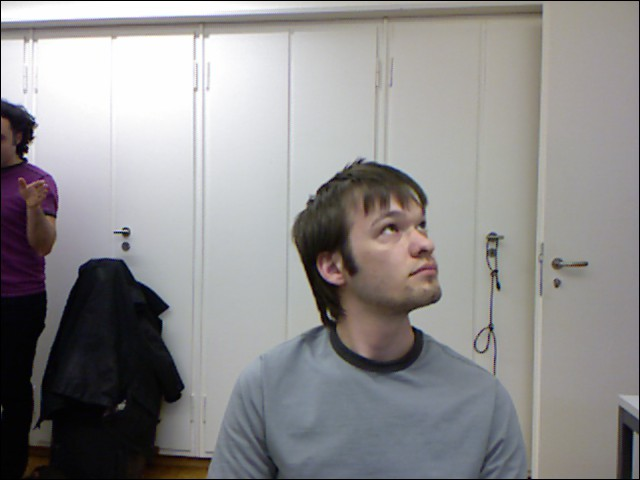deflection: (246, 181, 507, 480)
